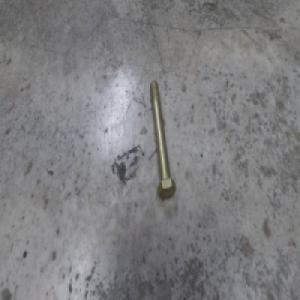Bolt: (149, 80, 177, 202)
